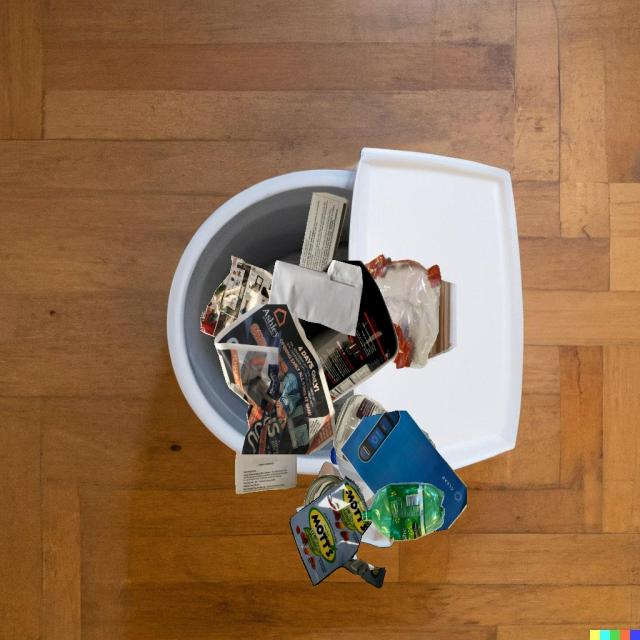glass: (333, 394, 389, 466), (304, 475, 343, 507)
paper: (215, 304, 336, 454), (341, 411, 467, 532), (298, 464, 390, 559), (268, 260, 363, 336), (200, 256, 273, 338), (299, 192, 348, 271), (235, 451, 297, 494)
plastic: (297, 261, 399, 403), (364, 254, 441, 369), (362, 482, 445, 541), (330, 446, 365, 483)
trash: (290, 475, 385, 588)
